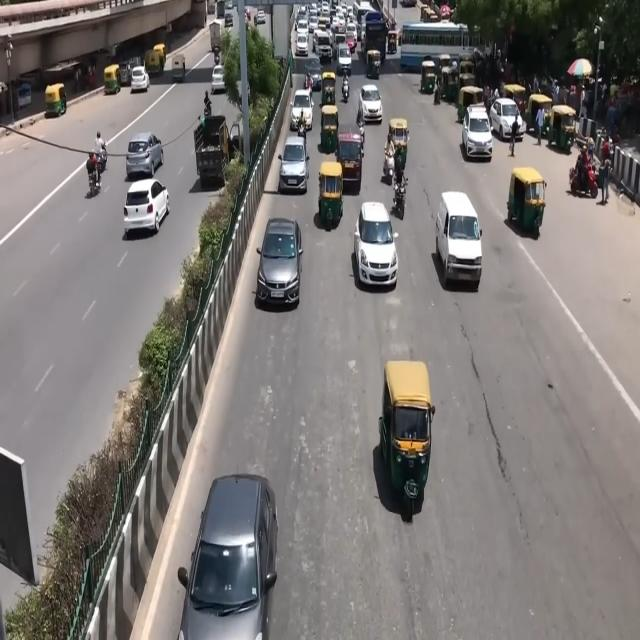auto: (380, 359, 434, 509), (507, 166, 546, 233), (317, 162, 343, 227), (548, 104, 577, 153), (526, 92, 553, 139), (387, 118, 409, 172), (458, 84, 483, 124), (320, 104, 339, 154), (503, 83, 528, 118), (44, 83, 67, 118), (420, 58, 437, 94), (441, 64, 458, 100), (458, 57, 476, 90), (321, 70, 337, 106), (144, 48, 164, 76), (104, 64, 121, 94), (366, 49, 382, 80), (438, 54, 452, 80)
bike-auto: (392, 173, 408, 218), (86, 150, 99, 194), (95, 132, 107, 170), (204, 90, 212, 118), (298, 108, 306, 136)
